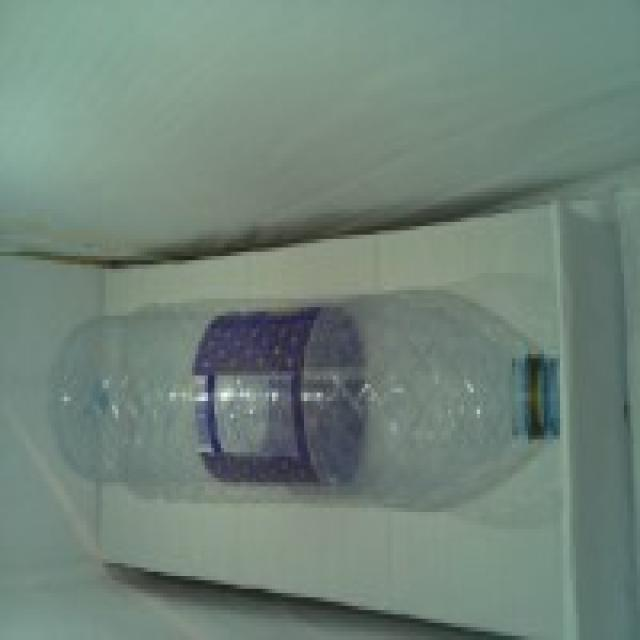Anorganik: (45, 282, 566, 508)
